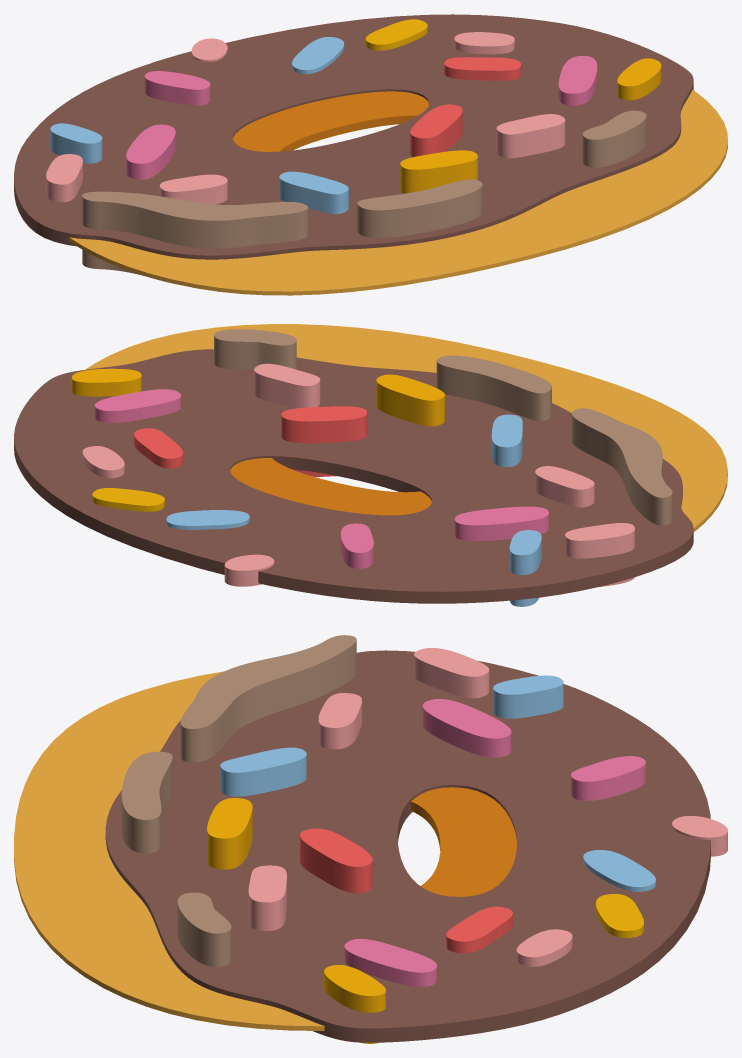
File: emoji_u1f369.glb
3 renders of one model, top to bottom at view 1: azimuth 30°, elevation 25°; view 2: azimuth 150°, elevation 25°; view 3: azimuth 270°, elevation 25°, orthographic. The views are drawn at different scales.
Parts seen in each view (by area): view 1: emoji_u1f369; view 2: emoji_u1f369; view 3: emoji_u1f369.
Part boxes in pixels (x1,y1,x2,y2): emoji_u1f369: (14, 14, 727, 295); emoji_u1f369: (14, 324, 727, 606); emoji_u1f369: (14, 635, 727, 1043).
Size of the model in its own units: 0.0339 by 0.0034 by 0.0271.
